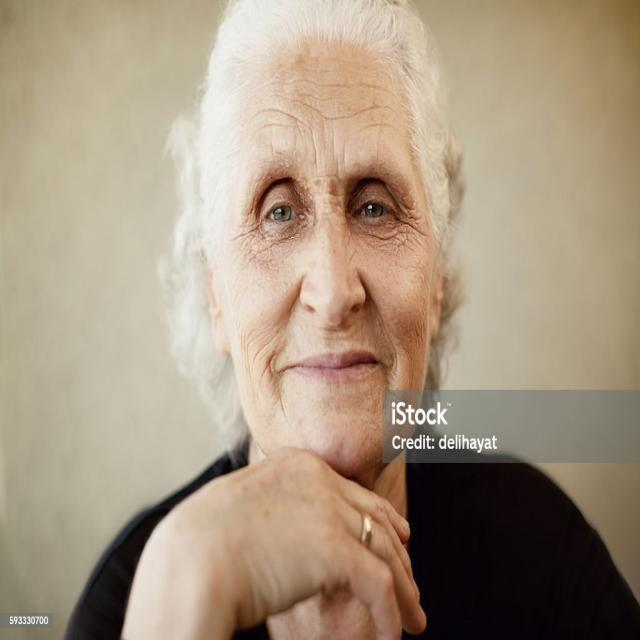dry: (244, 326, 306, 448), (263, 101, 364, 161), (372, 340, 426, 430), (229, 220, 279, 280), (402, 190, 437, 255)
